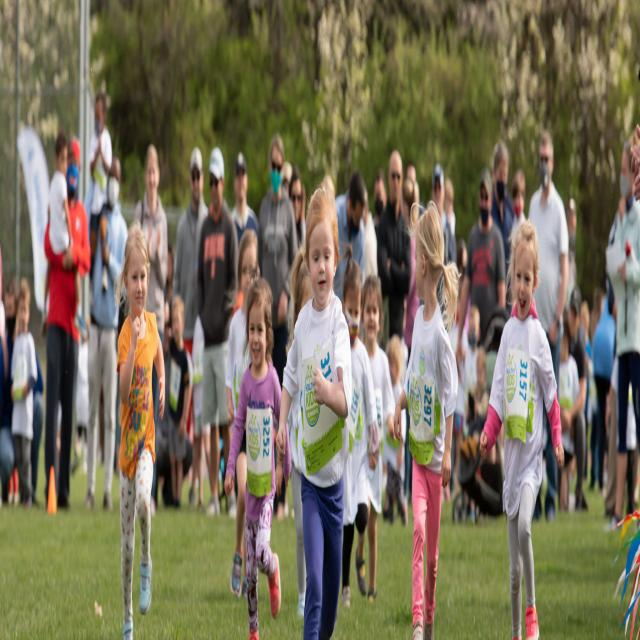Person: (479, 223, 564, 640), (276, 176, 352, 640), (394, 202, 458, 640), (225, 276, 291, 640), (116, 227, 166, 640), (44, 134, 92, 511), (197, 145, 237, 522), (342, 249, 379, 607), (87, 150, 122, 516), (228, 226, 261, 593), (363, 271, 398, 606), (0, 275, 43, 501), (11, 278, 35, 507), (88, 90, 111, 300), (48, 131, 75, 265)
